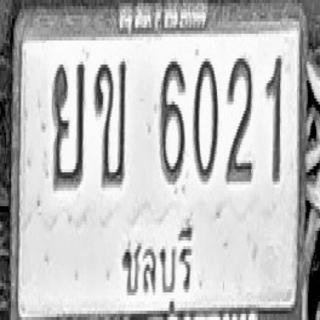A02: (93, 60, 126, 186)
A34: (52, 60, 84, 189)
N00: (193, 55, 218, 182)
N01: (265, 54, 282, 180)
N02: (225, 55, 253, 182)
N06: (159, 58, 185, 182)
P13: (116, 219, 198, 311)
